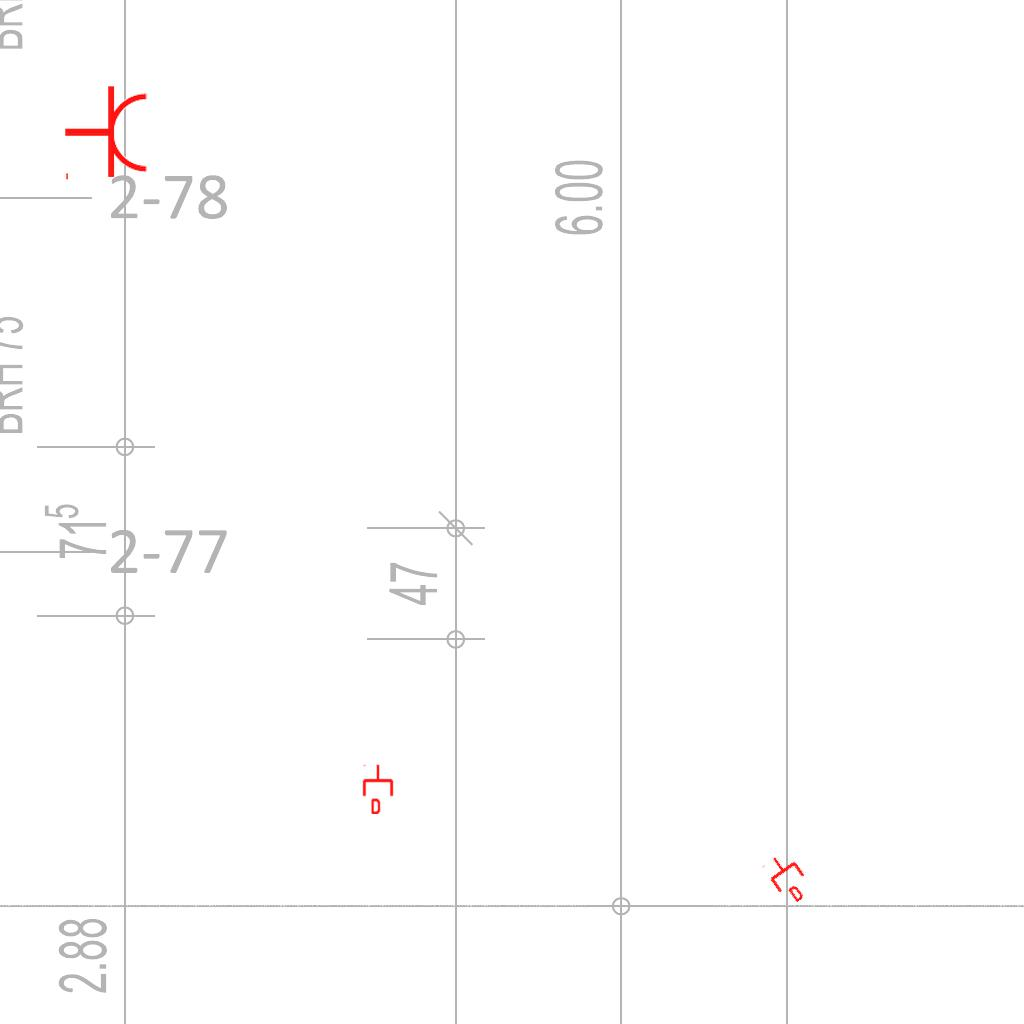Datenanschluss_einfach: (759, 847, 817, 909), (361, 764, 395, 814)
Schukosteckdose_einfach: (63, 84, 150, 184)
